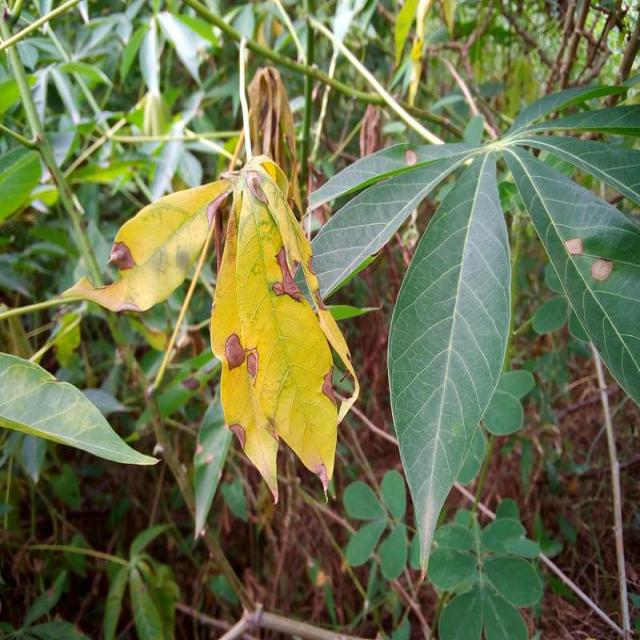cassava leaf: (386, 146, 512, 580), (208, 157, 343, 503), (500, 140, 639, 408), (0, 350, 161, 467)
